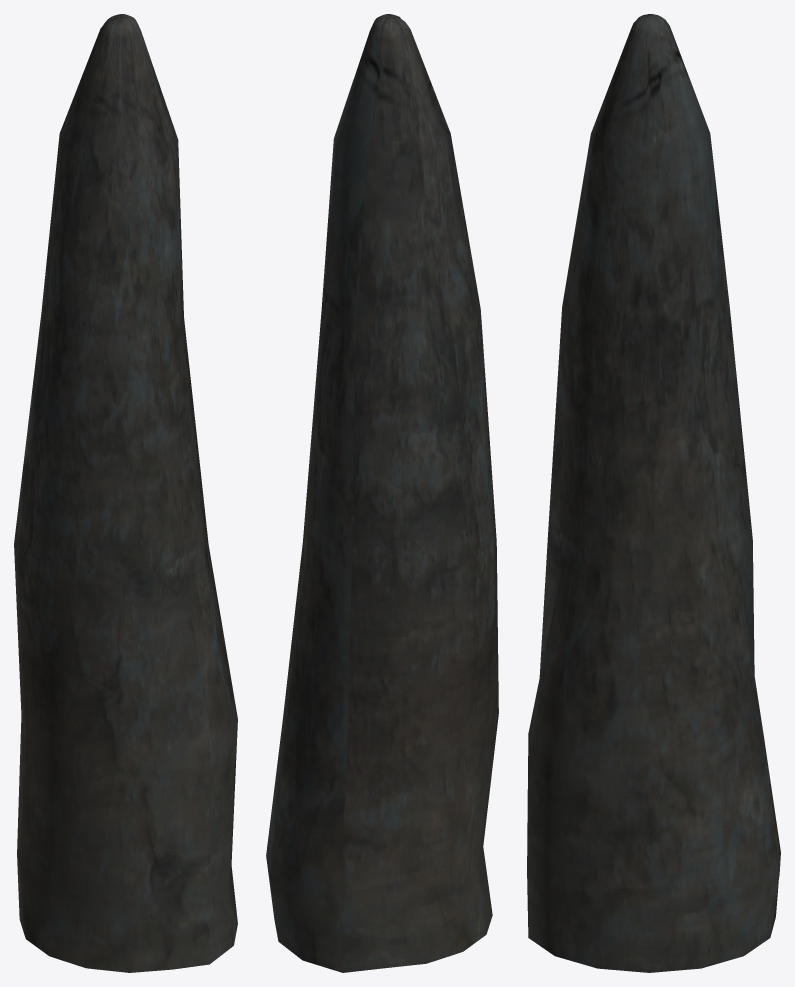
The model's file is Stalactite04.dae.
3 views of the same model, side by side, from view 1: azimuth 30°, elevation 25°; view 2: azimuth 150°, elevation 25°; view 3: azimuth 270°, elevation 25° (orthographic).
Visible parts, largest first — view 1: polySurface2; view 2: polySurface2; view 3: polySurface2.
Part boxes in pixels (<box>): polySurface2: <box>14,14,237,972</box>; polySurface2: <box>266,14,498,972</box>; polySurface2: <box>527,14,780,972</box>.
Bounding box in the file's own units: 0.4656 × 2.05 × 0.5174.
Materials: 1 (1 with a texture image).
